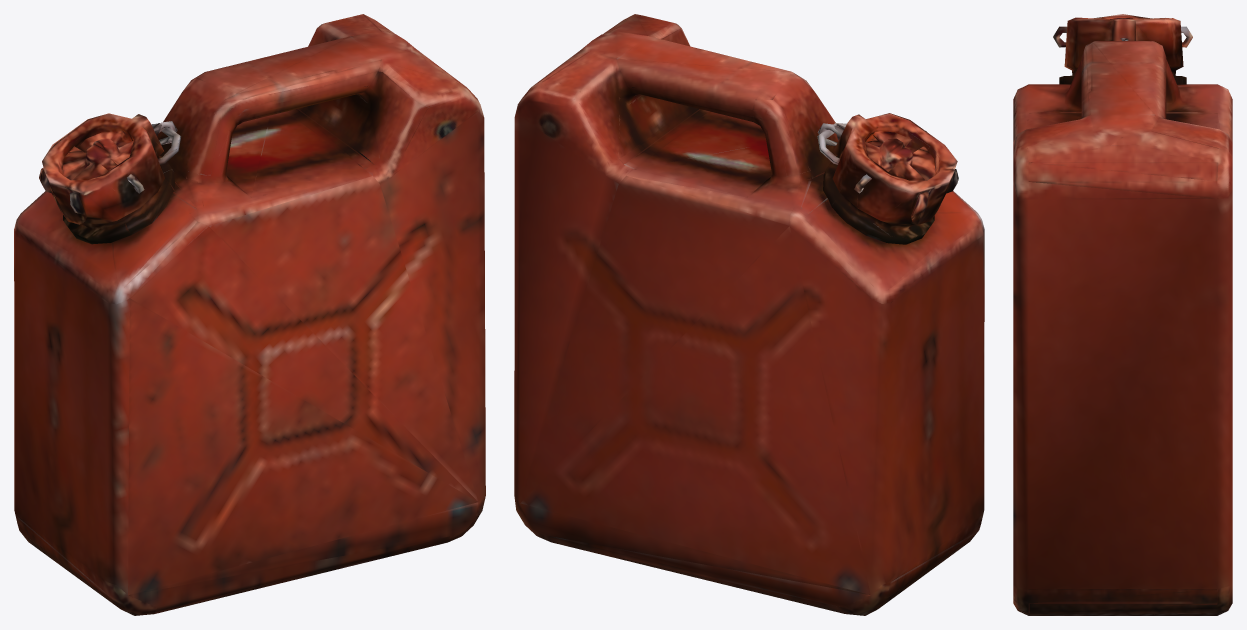
File: petrol_can.glb
The picture shows the model from 3 angles, left to right: view 1: azimuth 30°, elevation 25°; view 2: azimuth 150°, elevation 25°; view 3: azimuth 270°, elevation 25°; orthographic projection. The views are drawn at different scales.
Parts seen in each view (by area): view 1: geometry_0; view 2: geometry_0; view 3: geometry_0.
Boxes of the visible parts, x1=… form: geometry_0: x1=14, y1=14, x2=485, y2=615; geometry_0: x1=514, y1=14, x2=984, y2=615; geometry_0: x1=1013, y1=14, x2=1232, y2=615.
Size of the model in its own units: 0.8262 by 0.9526 by 0.394.
Materials: 1 (1 with a texture image).
